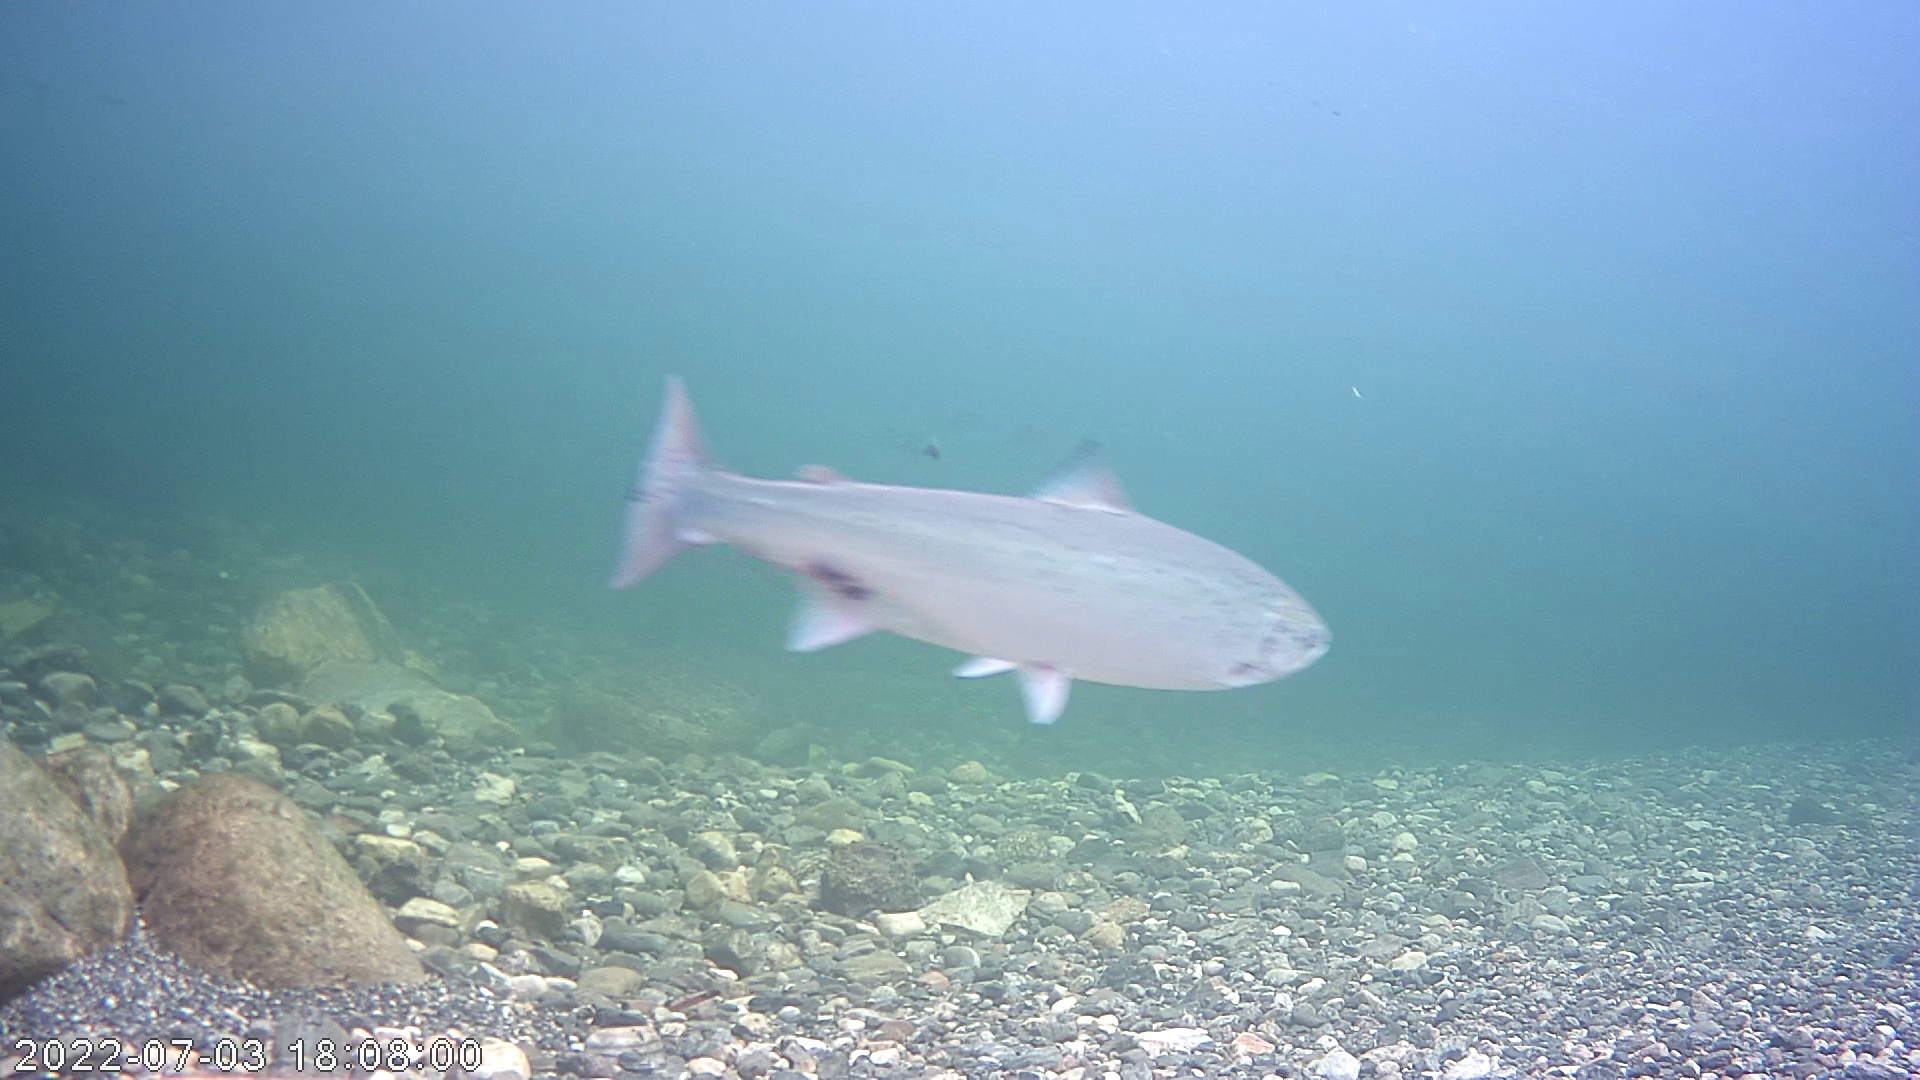salmon: (605, 371, 1336, 727)
